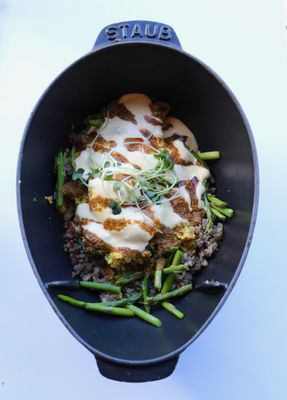sushi: (4, 19, 261, 385)
